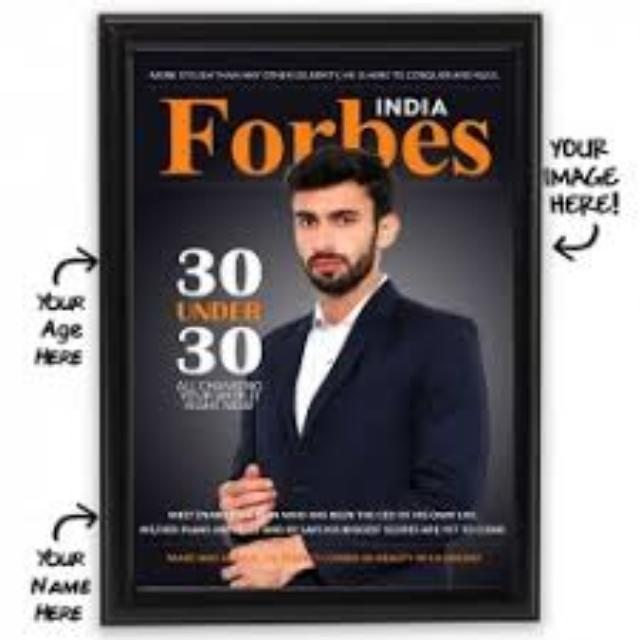cardboard paper: (97, 11, 535, 617)
